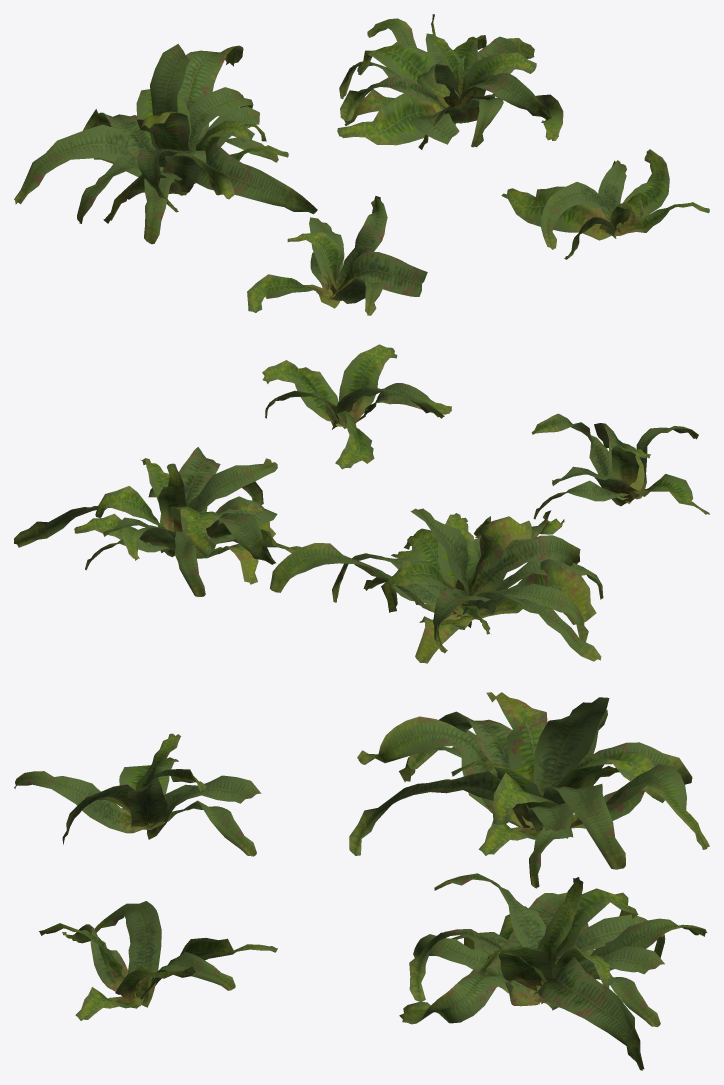
File: fern_02_ground-lod1.glb
3 renders of one model, top to bottom at view 1: azimuth 30°, elevation 25°; view 2: azimuth 150°, elevation 25°; view 3: azimuth 270°, elevation 25°, orthographic. The views are drawn at different scales.
Parts seen in each view (by area): view 1: fern_02_b, fern_02_c, fern_02_d, fern_02_a; view 2: fern_02_b, fern_02_c, fern_02_d, fern_02_a; view 3: fern_02_b, fern_02_c, fern_02_a, fern_02_d.
Part boxes in pixels (x1,y1,x2,y2): fern_02_b: (14, 44, 317, 244); fern_02_c: (337, 14, 563, 149); fern_02_d: (501, 149, 709, 259); fern_02_a: (247, 196, 427, 315); fern_02_b: (270, 508, 603, 663); fern_02_c: (14, 447, 300, 596); fern_02_d: (262, 344, 451, 469); fern_02_a: (531, 413, 709, 519); fern_02_b: (349, 692, 709, 888); fern_02_c: (399, 873, 707, 1070); fern_02_a: (14, 733, 261, 856); fern_02_d: (39, 901, 277, 1020).
Bounding box in the file's own units: 1.97 × 0.4277 × 1.72.
Materials: 1 (1 with a texture image).
